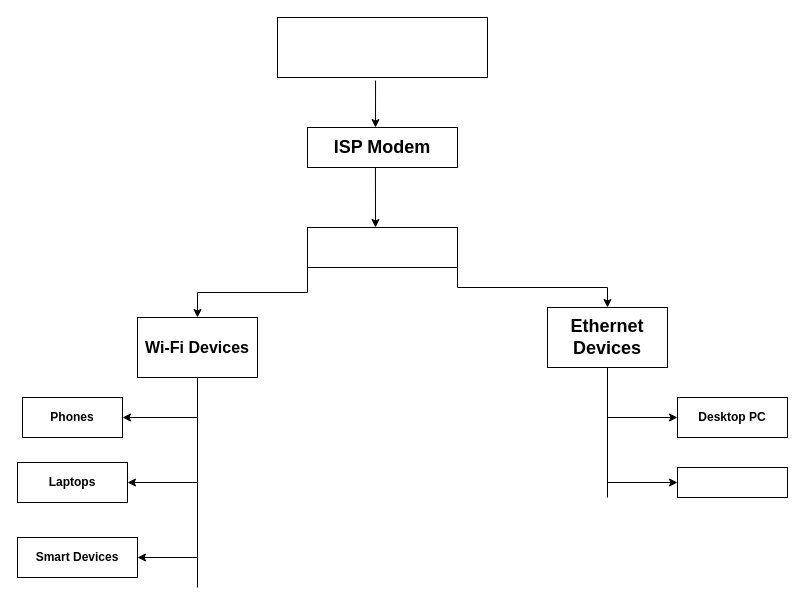
This 805x606 diagram has some shape labels left out. Here are the shapes that lost their labels. From the top down, the box of each, then its label:
(276, 16, 488, 78): Internet
(306, 226, 458, 268): Router
(676, 466, 788, 498): Proxmox Server
